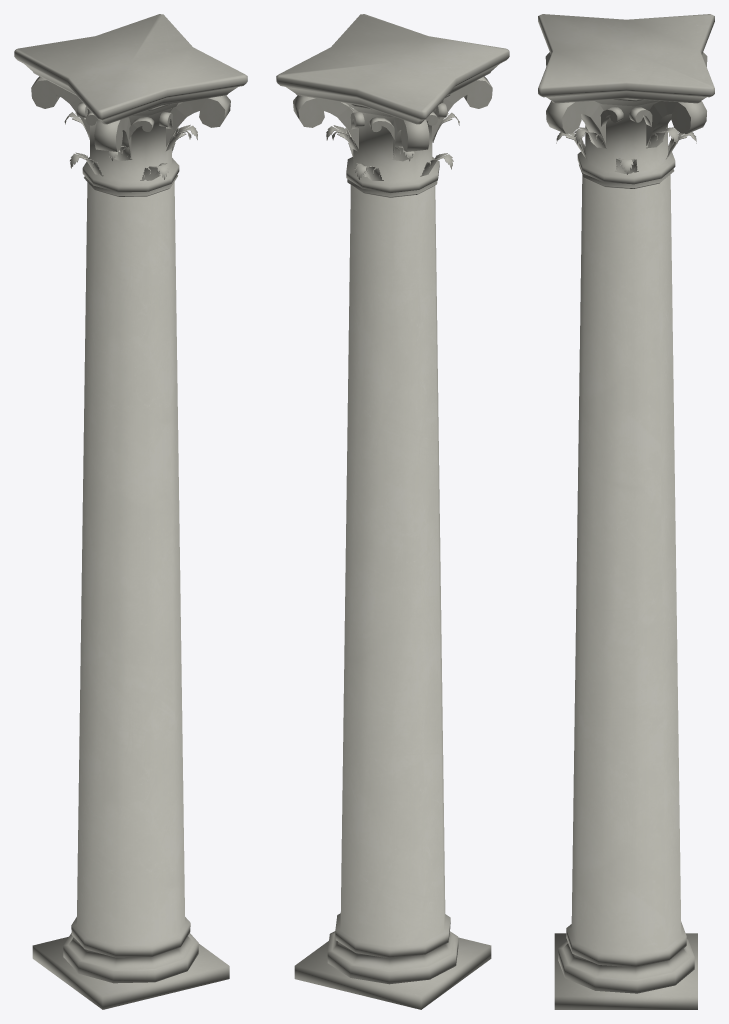
Rendered from ColonnaTempio.fbx.
3 views of the same model, side by side, from view 1: azimuth 30°, elevation 25°; view 2: azimuth 150°, elevation 25°; view 3: azimuth 270°, elevation 25° (orthographic). The views are drawn at different scales.
Parts seen in each view (by area): view 1: Cube.003; view 2: Cube.003; view 3: Cube.003.
Part boxes in pixels (box(x1,y1,x2,y2)): Cube.003: box(14, 14, 247, 1009); Cube.003: box(276, 14, 509, 1009); Cube.003: box(538, 14, 714, 1009).
Size of the model in its own units: 363 by 2100 by 363.
